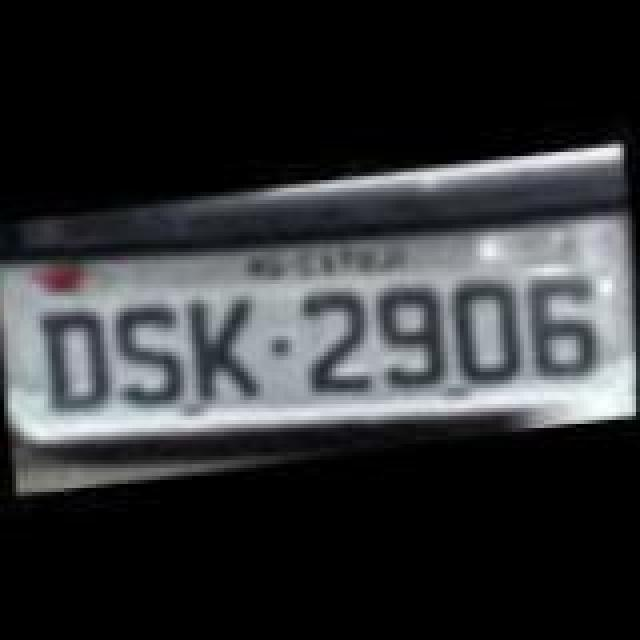2: (290, 284, 378, 400)
6: (514, 268, 602, 388)
9: (366, 278, 446, 394)
D: (28, 308, 112, 420)
K: (178, 290, 266, 406)
O: (446, 274, 526, 390)
S: (108, 298, 192, 410)
